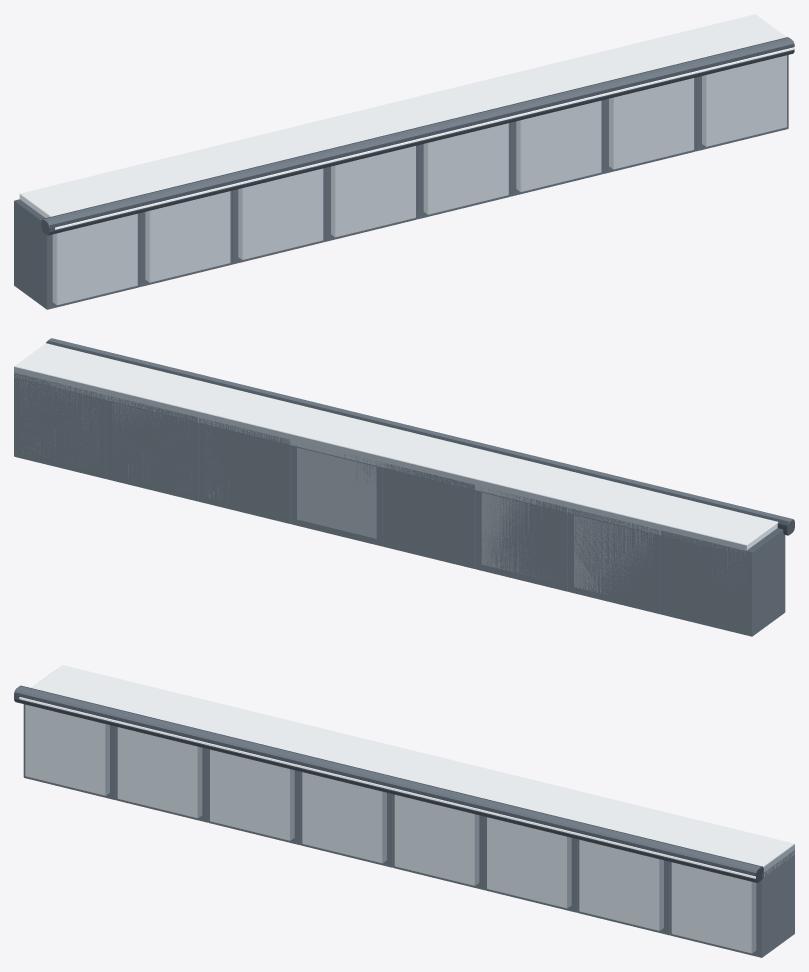
File: Terrain_TopRun8L.gltf
3 views of the same model, one above another, from view 1: azimuth 30°, elevation 25°; view 2: azimuth 150°, elevation 25°; view 3: azimuth 330°, elevation 25° (orthographic).
Parts seen in each view (by area): view 1: Terrain_TopRun8L_baked; view 2: Terrain_TopRun8L_baked; view 3: Terrain_TopRun8L_baked.
Part boxes in pixels (x1,y1,x2,y2): Terrain_TopRun8L_baked: (14, 14, 794, 309); Terrain_TopRun8L_baked: (14, 338, 794, 636); Terrain_TopRun8L_baked: (14, 665, 794, 957).
Bounding box in the file's own units: 8.04 × 0.9495 × 0.74.
